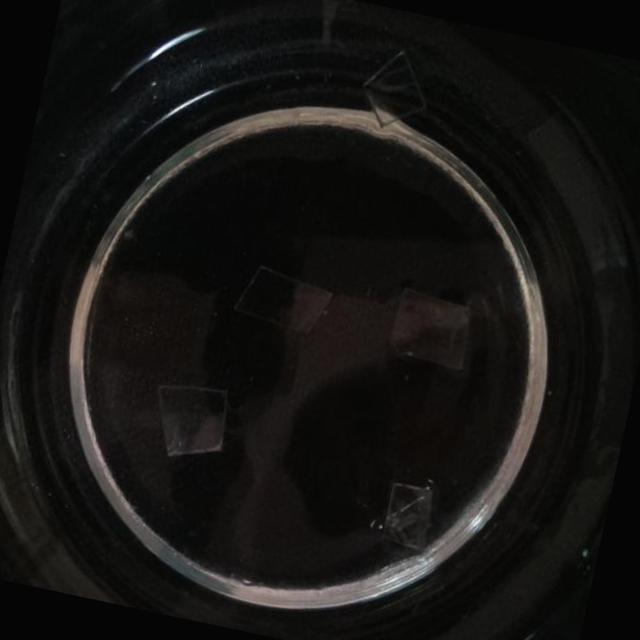fiber: (226, 256, 332, 342), (387, 282, 476, 376), (350, 42, 437, 137), (145, 378, 234, 468), (378, 479, 436, 554)
